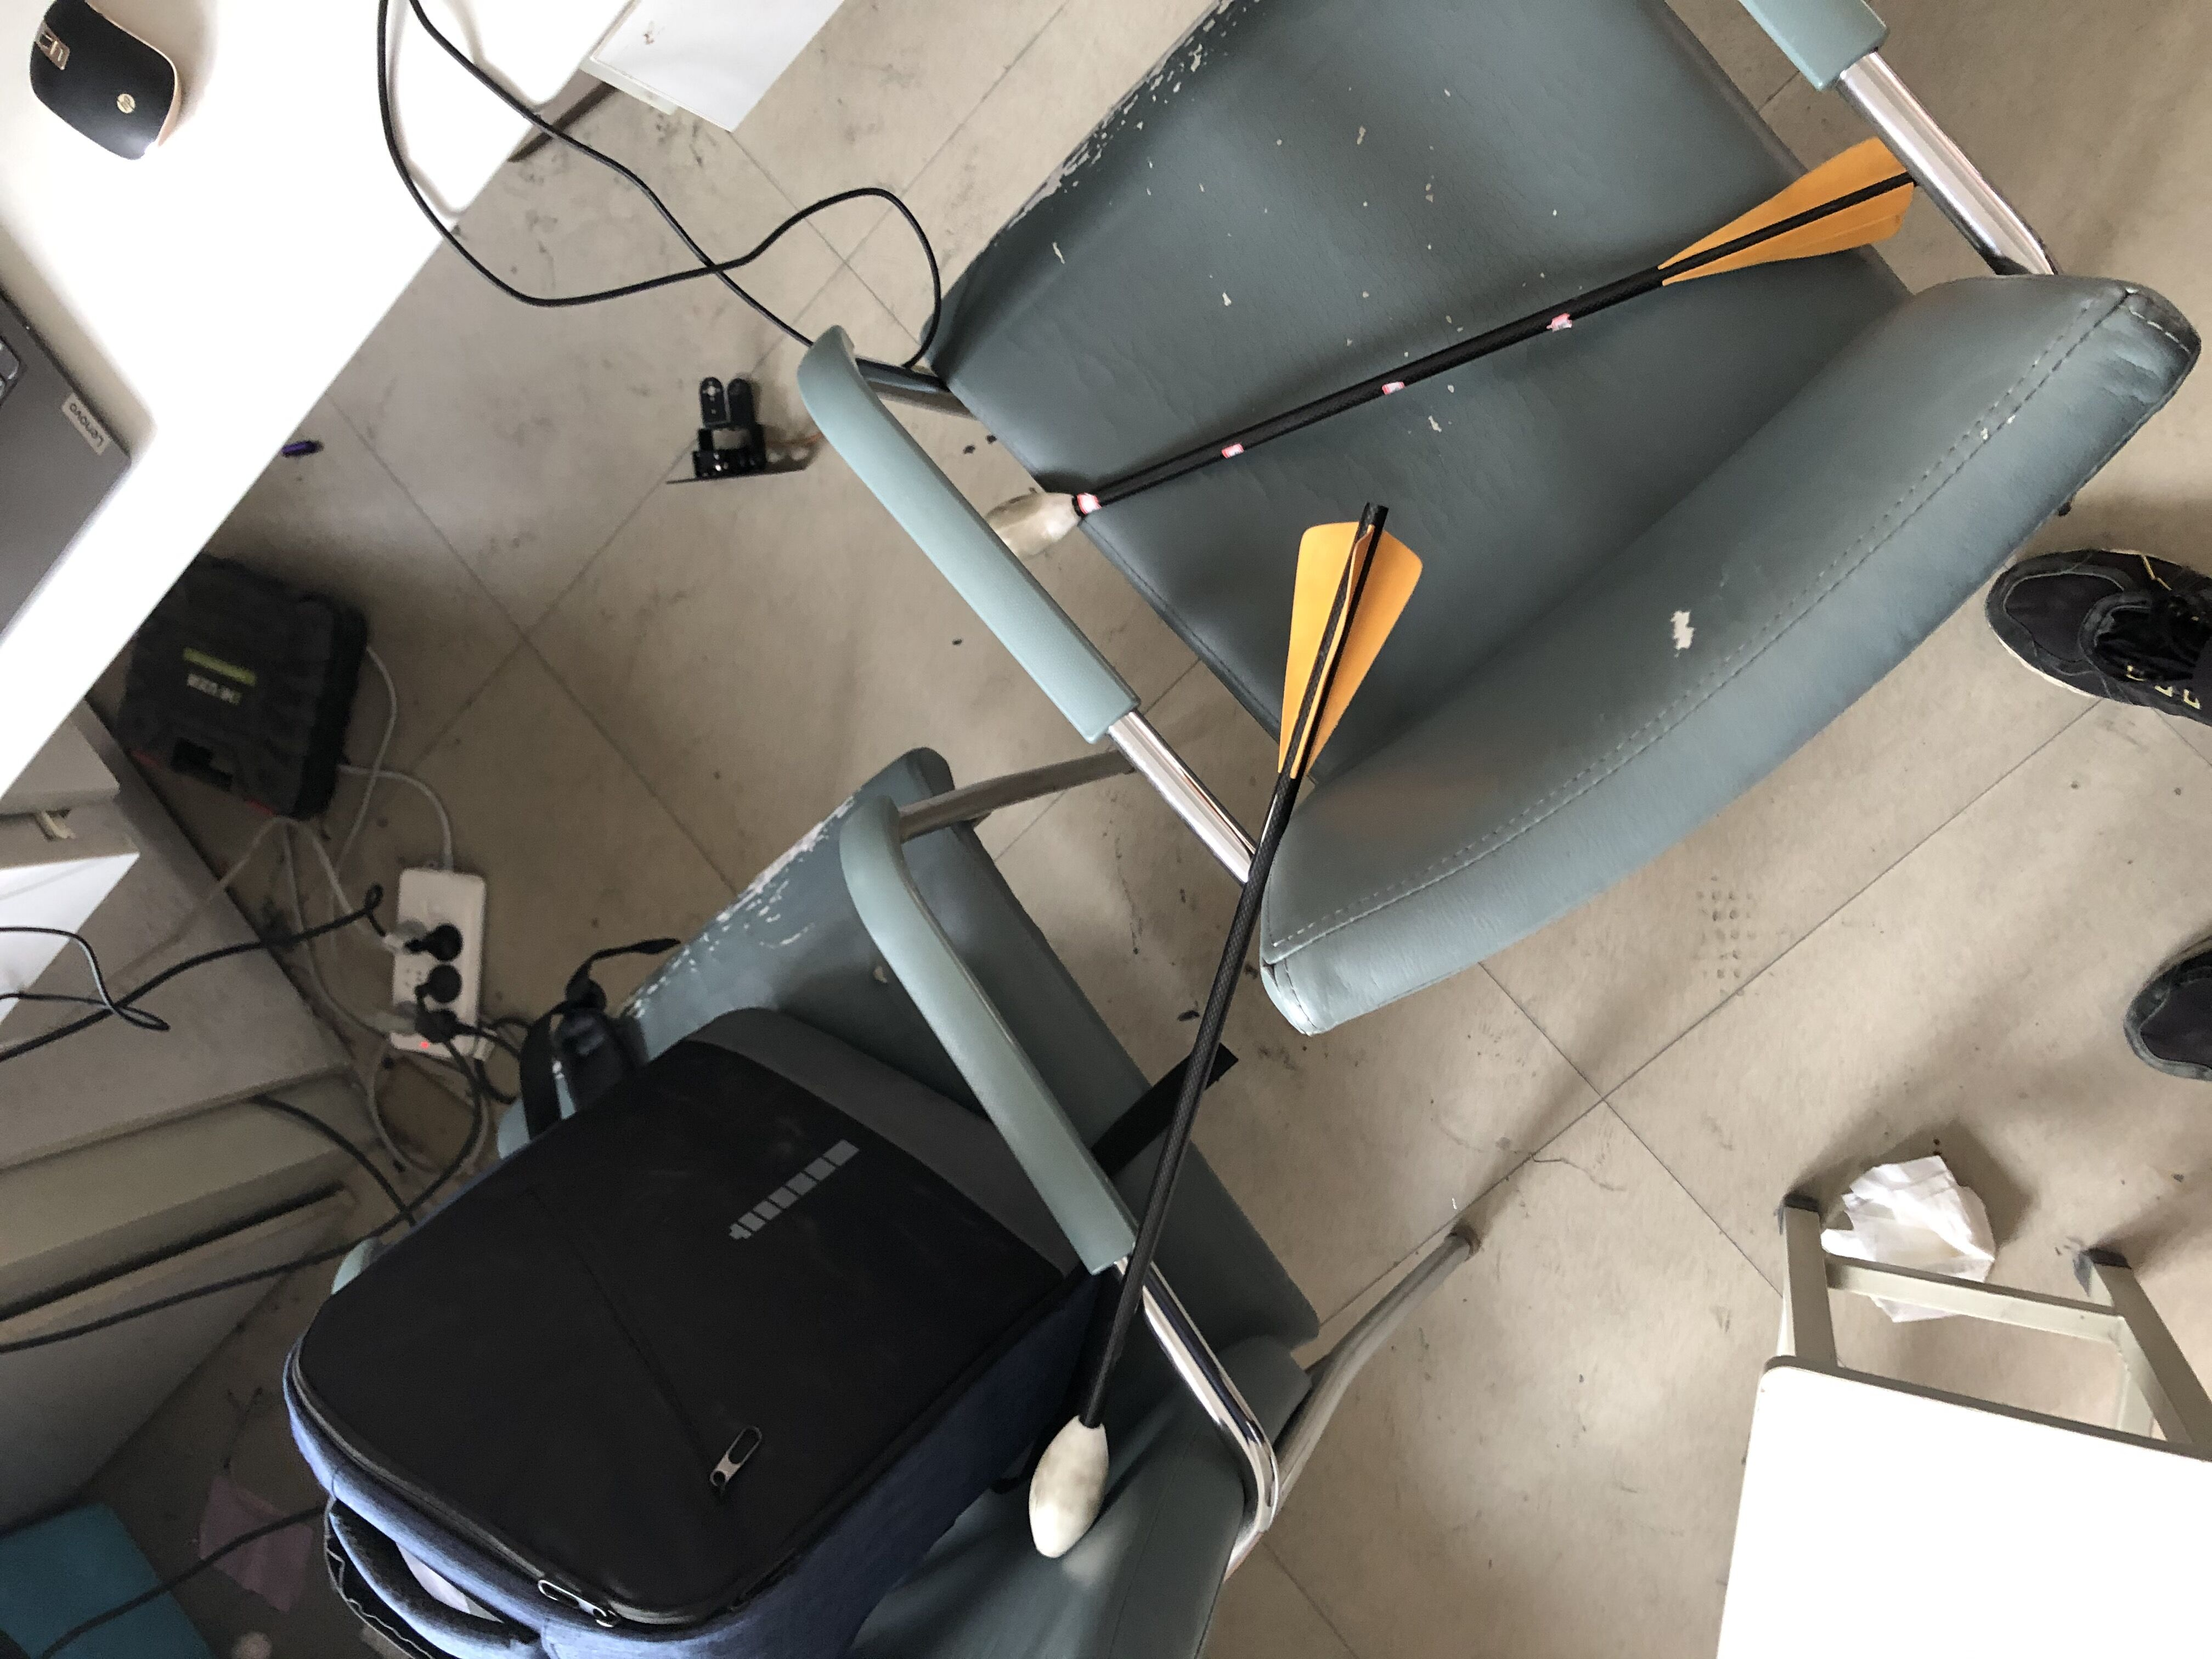arrow: (1024, 498, 1426, 1563), (982, 136, 1916, 551)
arrowFront: (1026, 1415, 1111, 1561), (984, 486, 1087, 552)
